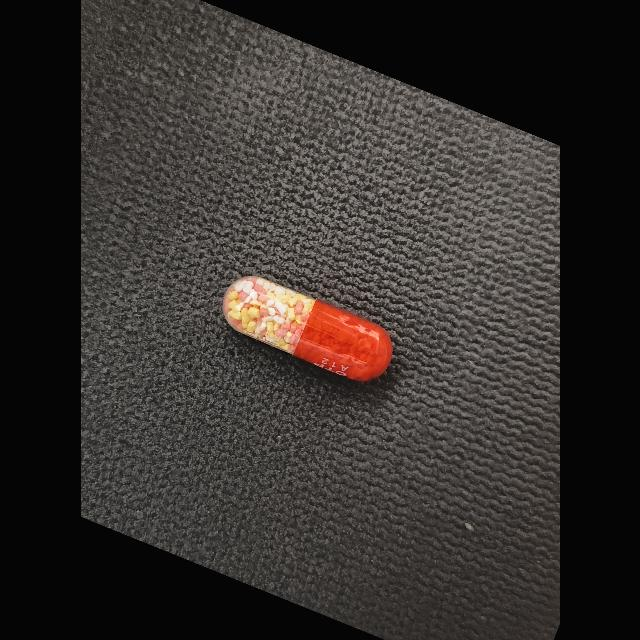Intact Capsule: (222, 276, 392, 381)
